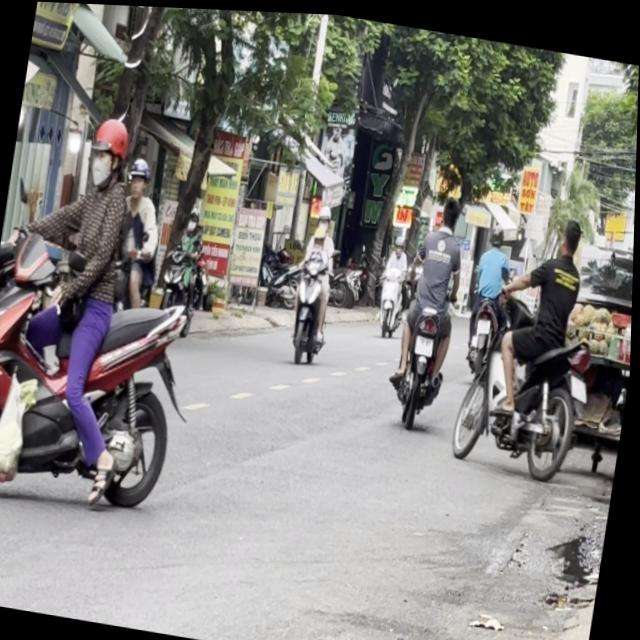helmet: (84, 112, 133, 190), (315, 201, 333, 232)
licenseplate: (0, 91, 228, 522), (448, 194, 620, 484), (383, 180, 476, 426), (283, 199, 348, 367)
motorcyclist: (558, 210, 585, 253), (438, 186, 463, 226)
nohelmet: (569, 368, 593, 399), (415, 330, 436, 353)
